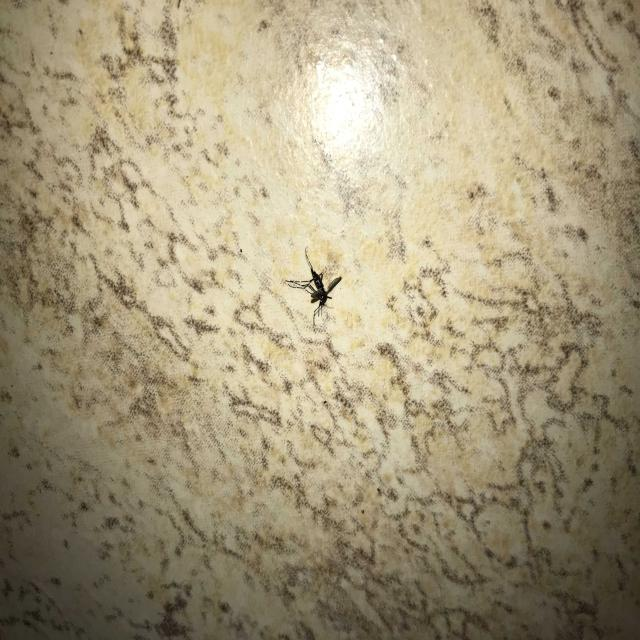albopictus: (284, 242, 348, 328)
